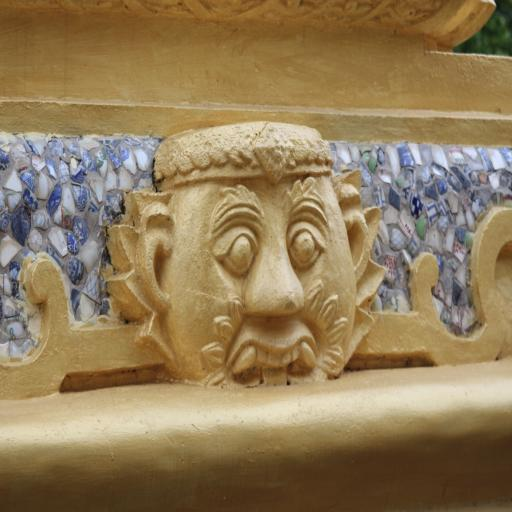than: (134, 123, 370, 394)
